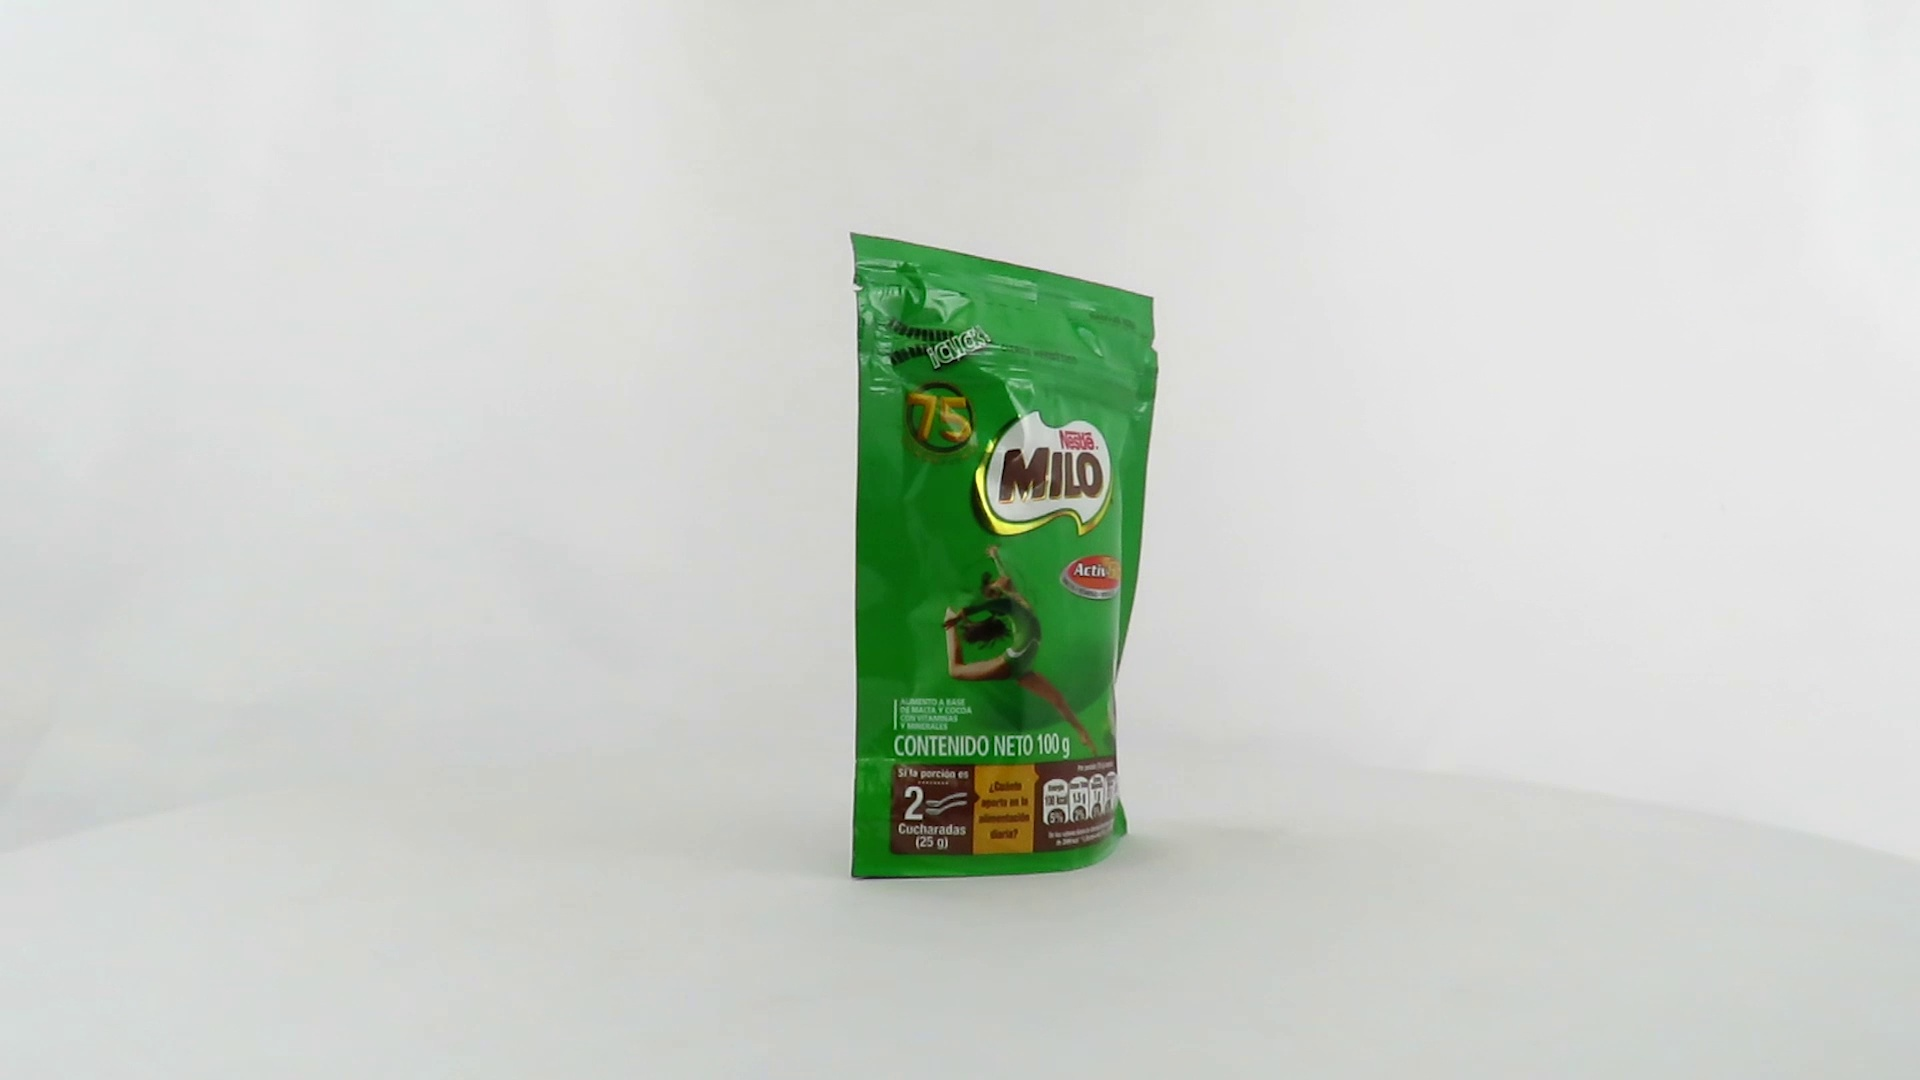COL0170203DYP10000: (844, 227, 1164, 887)
